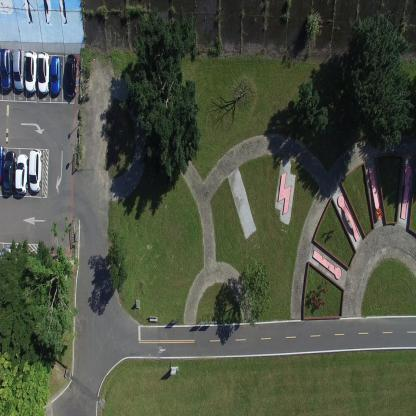car: (28, 148, 43, 192), (2, 150, 16, 194), (37, 50, 50, 96), (0, 245, 13, 289), (65, 53, 78, 96), (13, 48, 26, 90), (15, 153, 28, 195), (0, 49, 13, 90), (25, 49, 37, 93), (50, 56, 62, 94), (0, 144, 5, 186)
